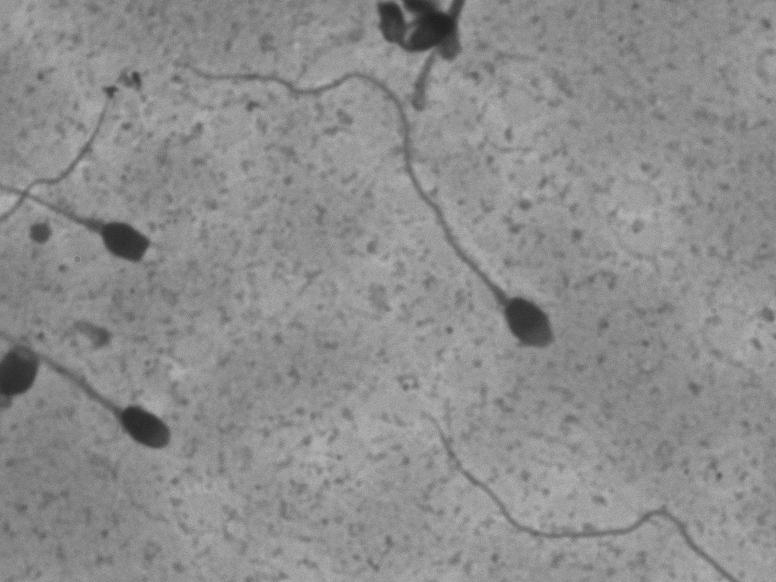Abnormal: (49, 364, 184, 489)
Normal: (186, 15, 578, 384)
